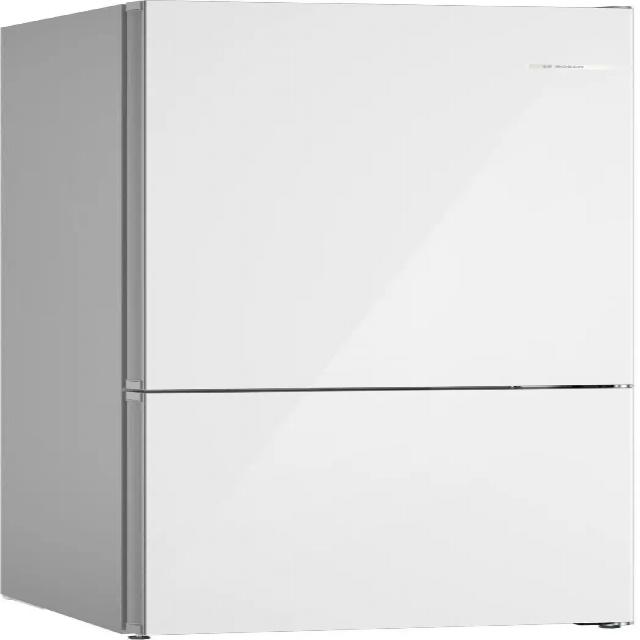refrigerator: (120, 0, 638, 633)
